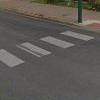Crosswalk: (1, 26, 93, 67)
